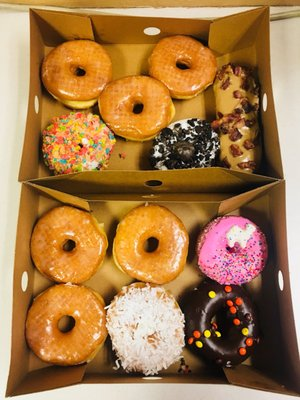salad: (105, 282, 186, 376), (179, 279, 261, 370), (25, 283, 107, 366), (30, 206, 108, 285), (113, 204, 189, 285), (196, 214, 269, 286), (98, 75, 175, 141), (41, 40, 113, 110), (40, 111, 115, 176), (147, 35, 218, 100), (148, 118, 220, 170), (211, 108, 261, 172), (213, 62, 261, 118)
